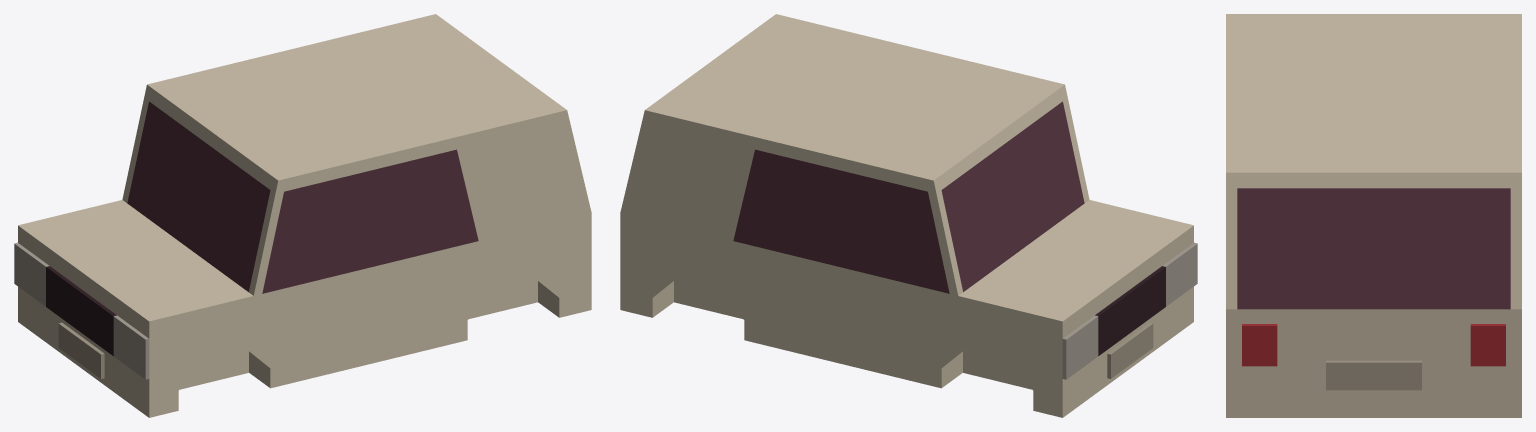
Rendered from Suv_White.fbx.
3 views of the same model, side by side, from view 1: azimuth 30°, elevation 25°; view 2: azimuth 150°, elevation 25°; view 3: azimuth 270°, elevation 25° (orthographic). The views are drawn at different scales.
Visible parts, largest first — view 1: Suv_White, Suv_Lights; view 2: Suv_White, Suv_Lights; view 3: Suv_White, Suv_Lights.
Boxes of the visible parts, x1,y1,x2,y2 form: Suv_White: (18, 14, 591, 417); Suv_Lights: (14, 242, 149, 379); Suv_White: (620, 14, 1193, 417); Suv_Lights: (1062, 242, 1197, 379); Suv_White: (1226, 14, 1521, 417); Suv_Lights: (1242, 324, 1505, 366).
Bounding box in the file's own units: 3.66 × 1.6 × 1.85.
